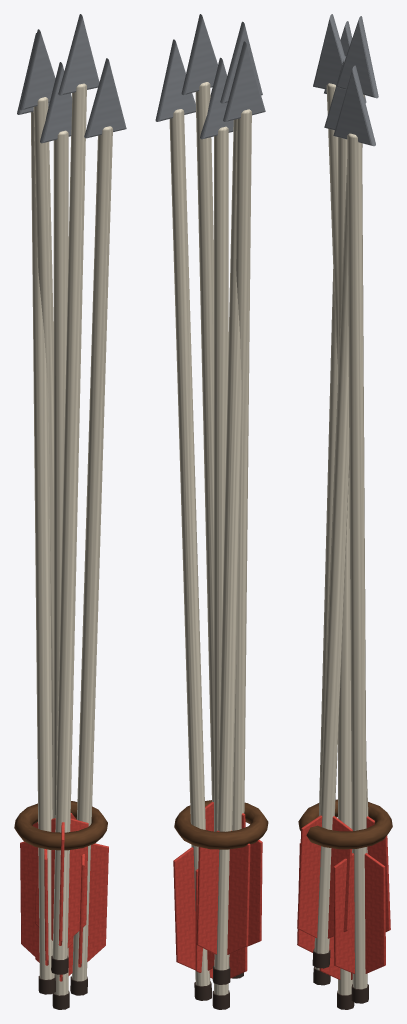
Rendered from arrows.glb.
3 views of the same model, side by side, from view 1: azimuth 30°, elevation 25°; view 2: azimuth 210°, elevation 25°; view 3: azimuth 330°, elevation 25° (orthographic).
Parts seen in each view (by area): view 1: arrow (×5), arrows; view 2: arrow (×5), arrows; view 3: arrow (×5), arrows.
Boxes of the visible parts, x1,y1,x2,y2 form: arrow (×5): (17,14,126,1009); arrows: (14,801,107,850); arrow (×5): (155,14,265,1009); arrows: (174,800,268,849); arrow (×5): (297,14,390,1009); arrows: (298,799,392,849).
Bounding box in the file's own units: 0.0796 × 0.8537 × 0.0743.
Materials: 5 (4 with a texture image).
